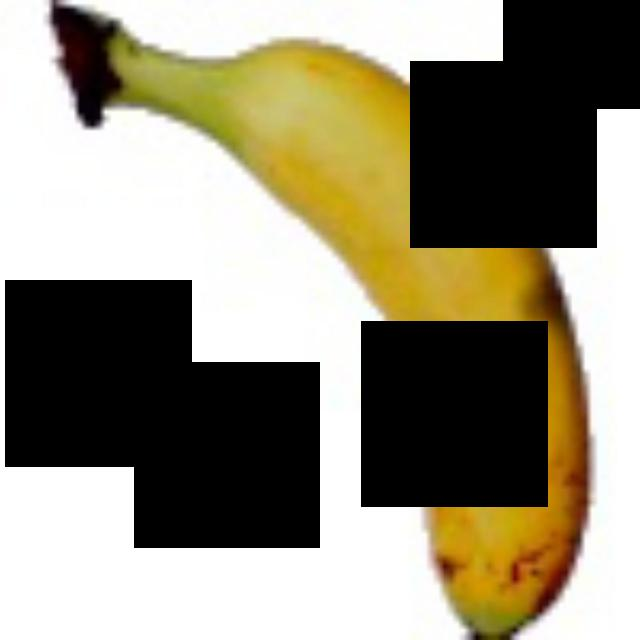banana: (25, 0, 627, 634)
